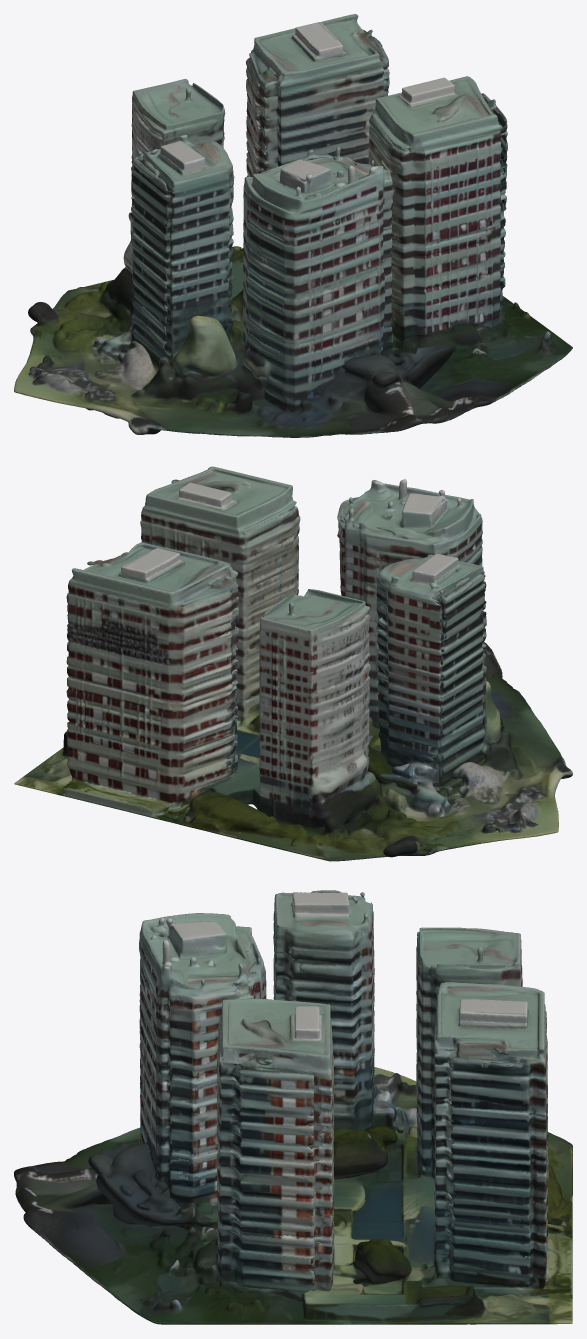
File: burela-torres.glb
The picture shows the model from 3 angles, top to bottom: view 1: azimuth 30°, elevation 25°; view 2: azimuth 150°, elevation 25°; view 3: azimuth 270°, elevation 25°; orthographic projection. The views are drawn at different scales.
Parts seen in each view (by area): view 1: tripo_node_a8020706-8350-419e-860d-ba0f8aabba71; view 2: tripo_node_a8020706-8350-419e-860d-ba0f8aabba71; view 3: tripo_node_a8020706-8350-419e-860d-ba0f8aabba71.
Part boxes in pixels (left/top/right/bottom): tripo_node_a8020706-8350-419e-860d-ba0f8aabba71: left=14, top=14, right=572, bottom=437; tripo_node_a8020706-8350-419e-860d-ba0f8aabba71: left=14, top=466, right=572, bottom=861; tripo_node_a8020706-8350-419e-860d-ba0f8aabba71: left=14, top=890, right=572, bottom=1324.
Size of the model in its own units: 1 by 0.5385 by 0.9179.
1 material, 1 textured.
